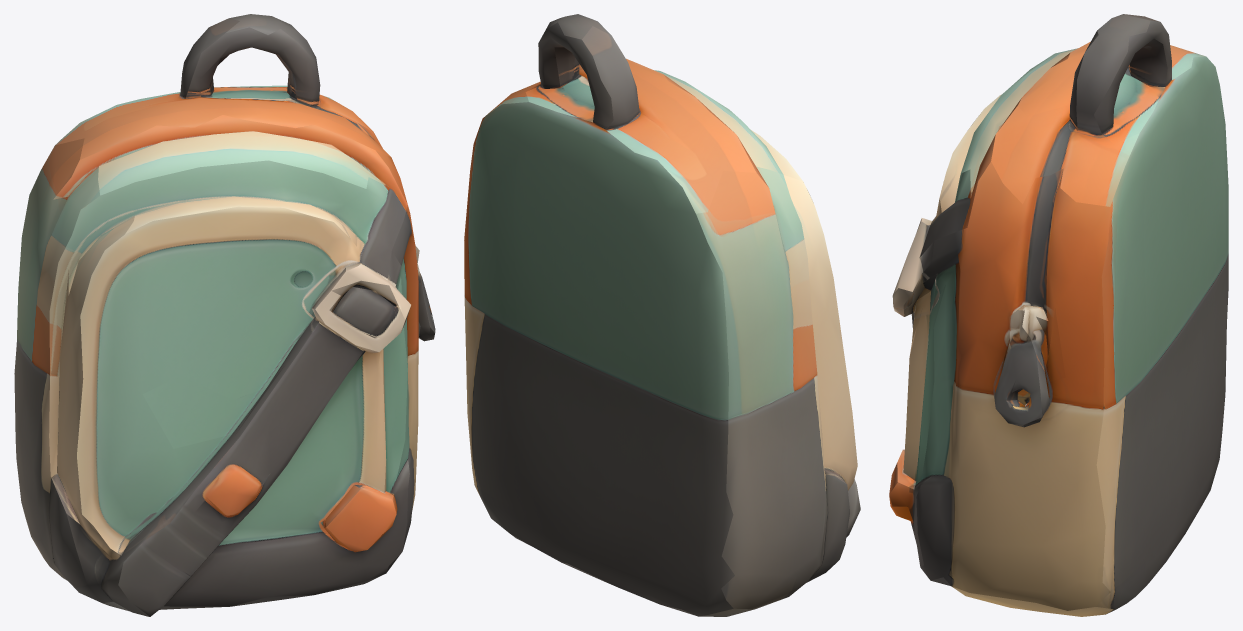
The picture shows the model from 3 angles, left to right: view 1: azimuth 30°, elevation 25°; view 2: azimuth 150°, elevation 25°; view 3: azimuth 270°, elevation 25°; orthographic projection. The views are drawn at different scales.
Parts seen in each view (by area): view 1: input; view 2: input; view 3: input.
Boxes of the visible parts, bbox=[...] form: input: bbox=[14, 14, 435, 616]; input: bbox=[464, 14, 860, 616]; input: bbox=[889, 14, 1228, 616].
Size of the model in its own units: 73.28 by 99.72 by 55.4.
1 material, 1 textured.
